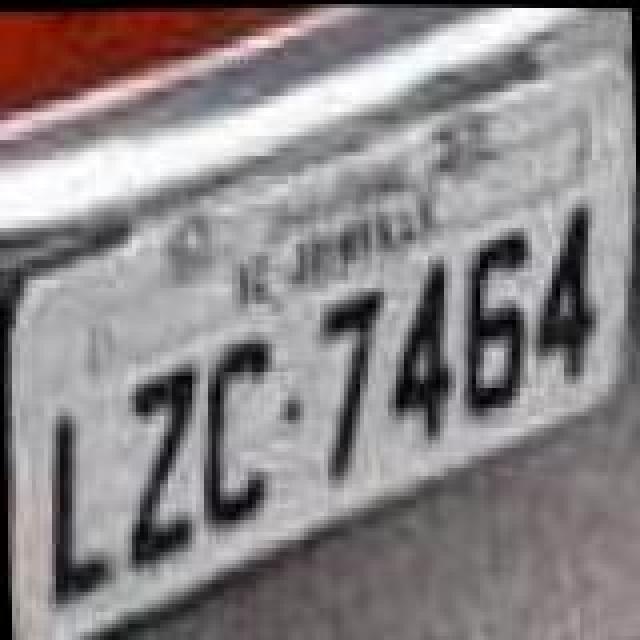4: (376, 248, 456, 440), (522, 194, 602, 378)
6: (456, 224, 536, 416)
7: (314, 286, 394, 486)
C: (192, 330, 280, 530)
L: (40, 404, 116, 604)
Z: (116, 358, 204, 570)
